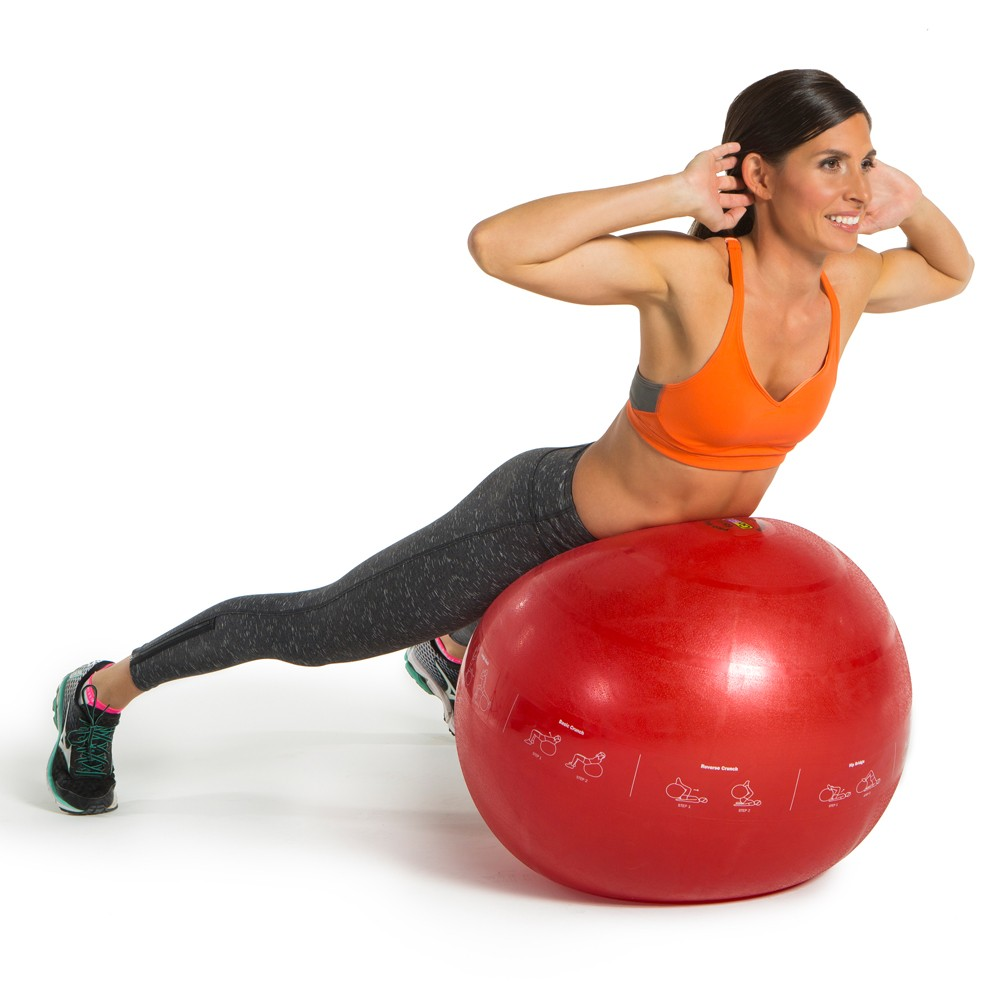yogaball: (454, 514, 918, 926)
